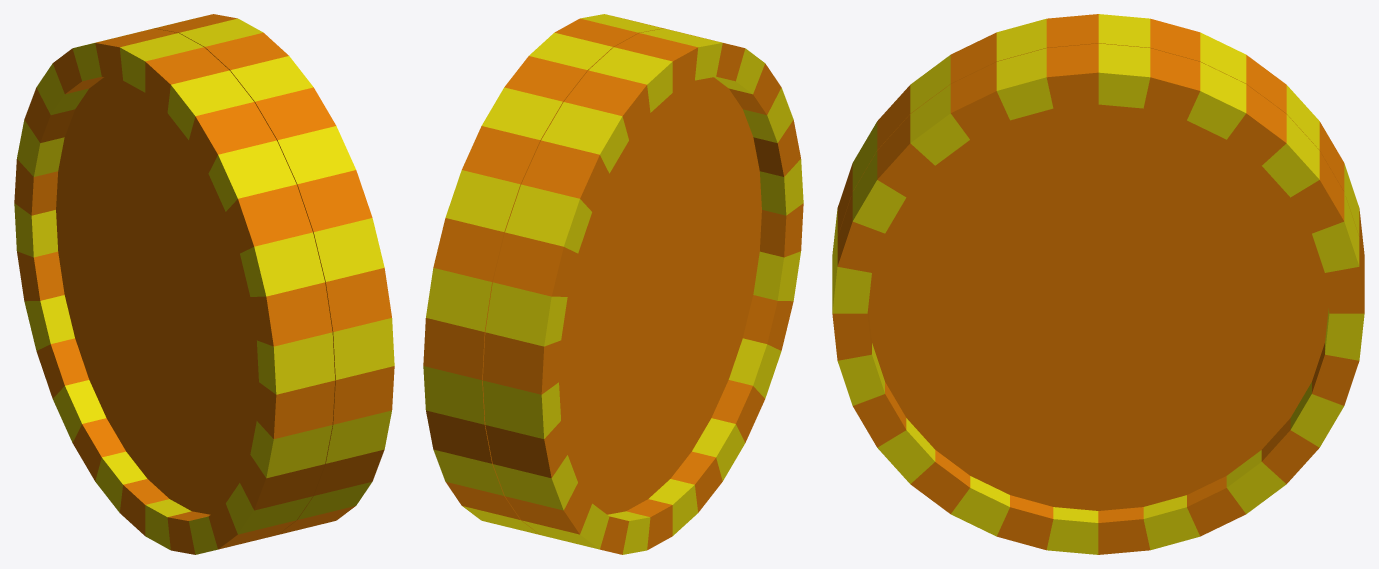
Rendered from coin.glb.
3 views of the same model, side by side, from view 1: azimuth 30°, elevation 25°; view 2: azimuth 150°, elevation 25°; view 3: azimuth 270°, elevation 25° (orthographic).
Visible parts, largest first — view 1: Cylinder; view 2: Cylinder; view 3: Cylinder.
Part boxes in pixels (x1,y1,x2,y2): Cylinder: (14, 14, 394, 554); Cylinder: (423, 14, 803, 554); Cylinder: (832, 14, 1364, 554).
Size of the model in its own units: 0.2608 by 1 by 1.
